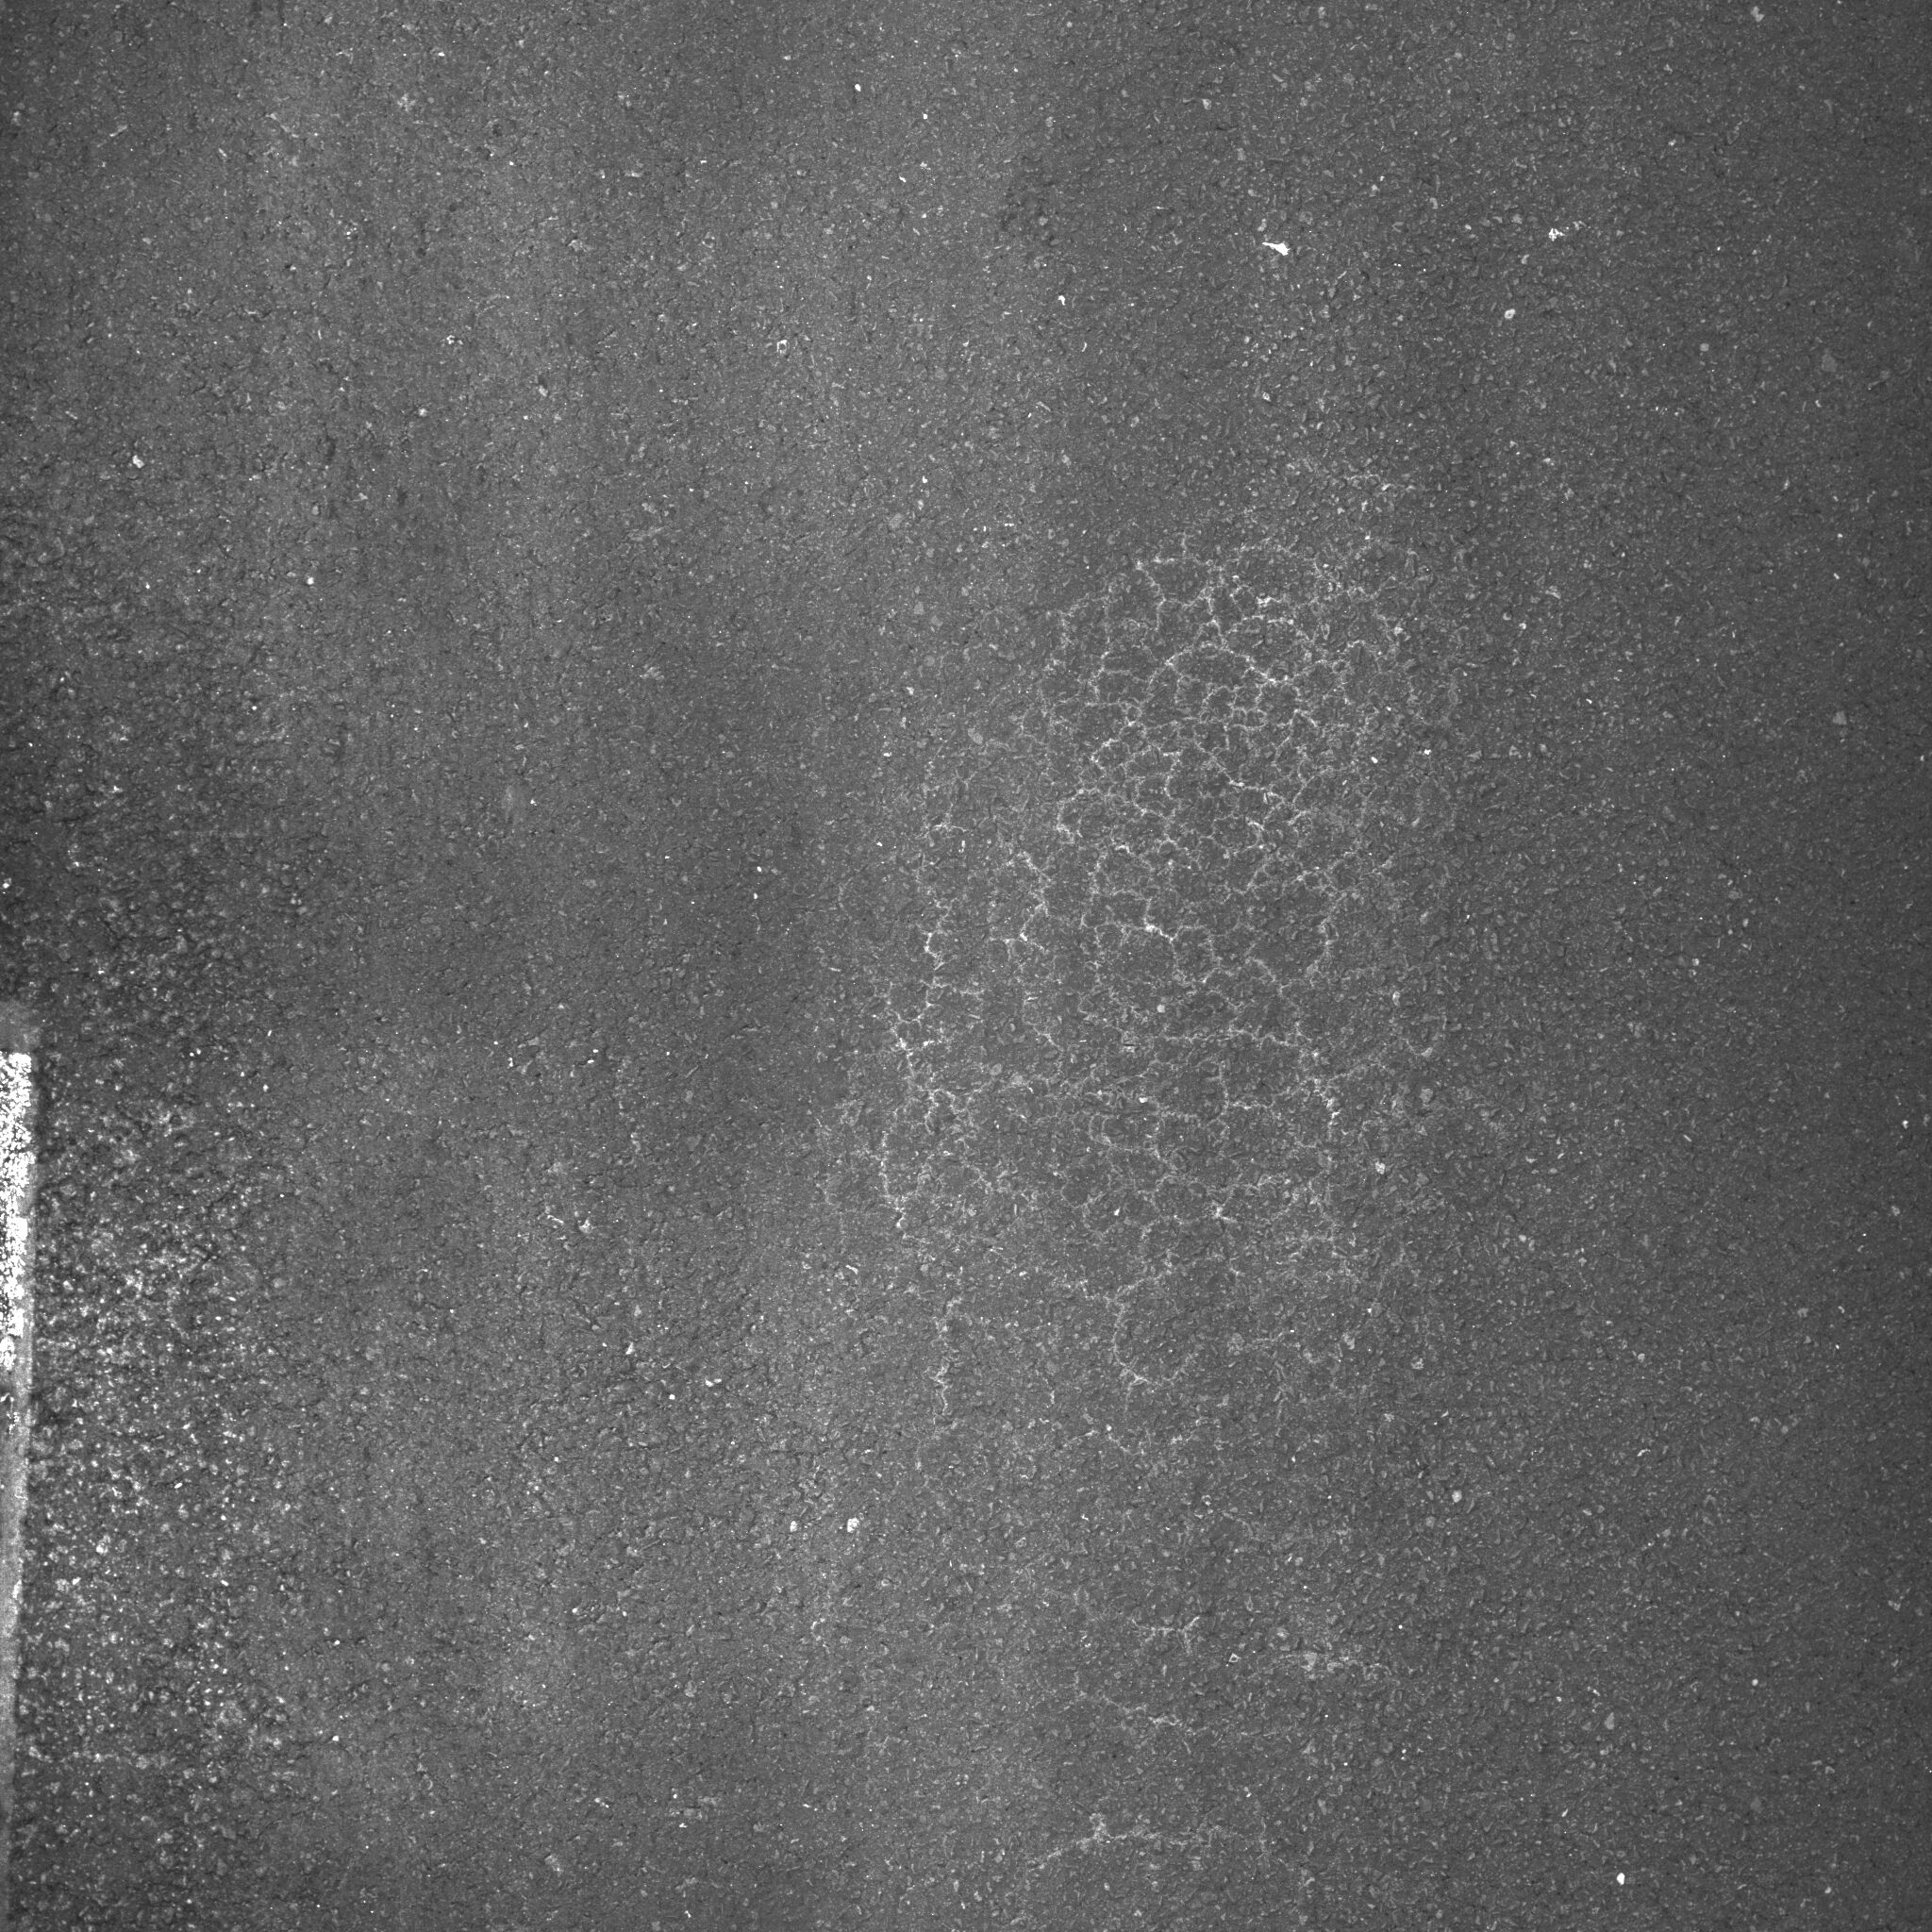alligator: (764, 359, 1566, 1932)
